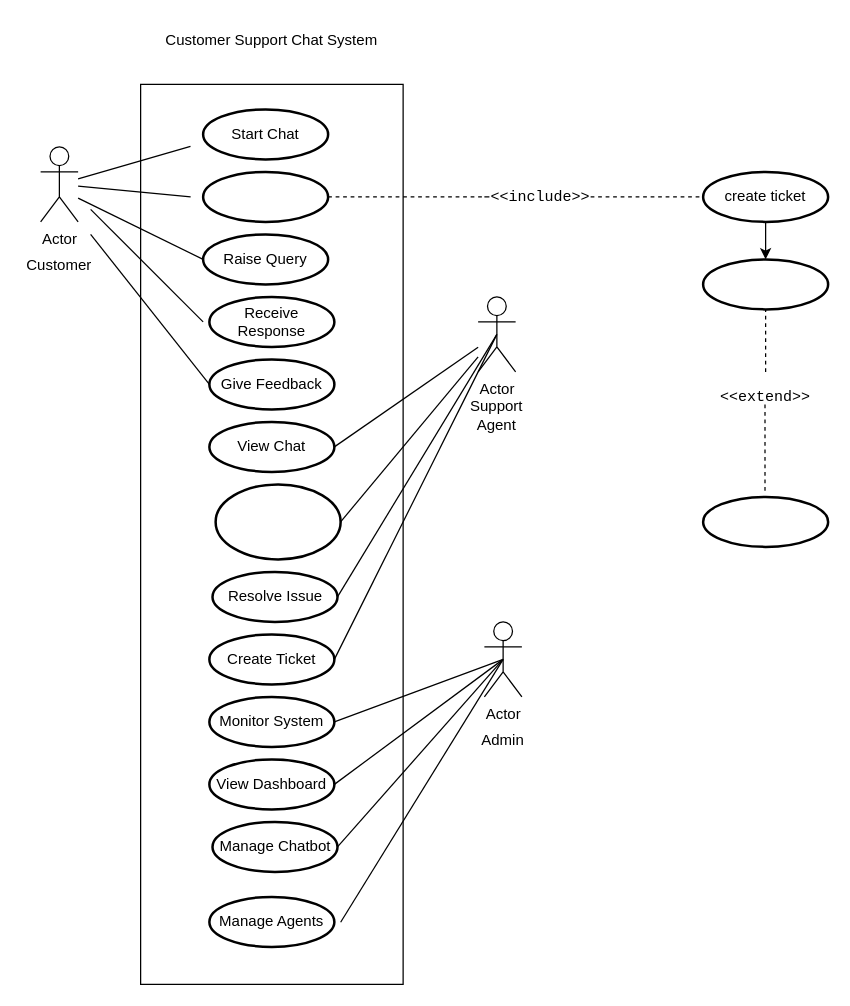
Image size: 850x1006. Some labels were removed from this diagram. The shapes that lost their labels are listed below. From the top down, each one's centre as x and y in pixels, then its label:
At point (265, 196): "Chat with Bot".
At point (765, 284): "escalate to agent".
At point (277, 521): "Respond to Customer".
At point (765, 521): "chat bot".
